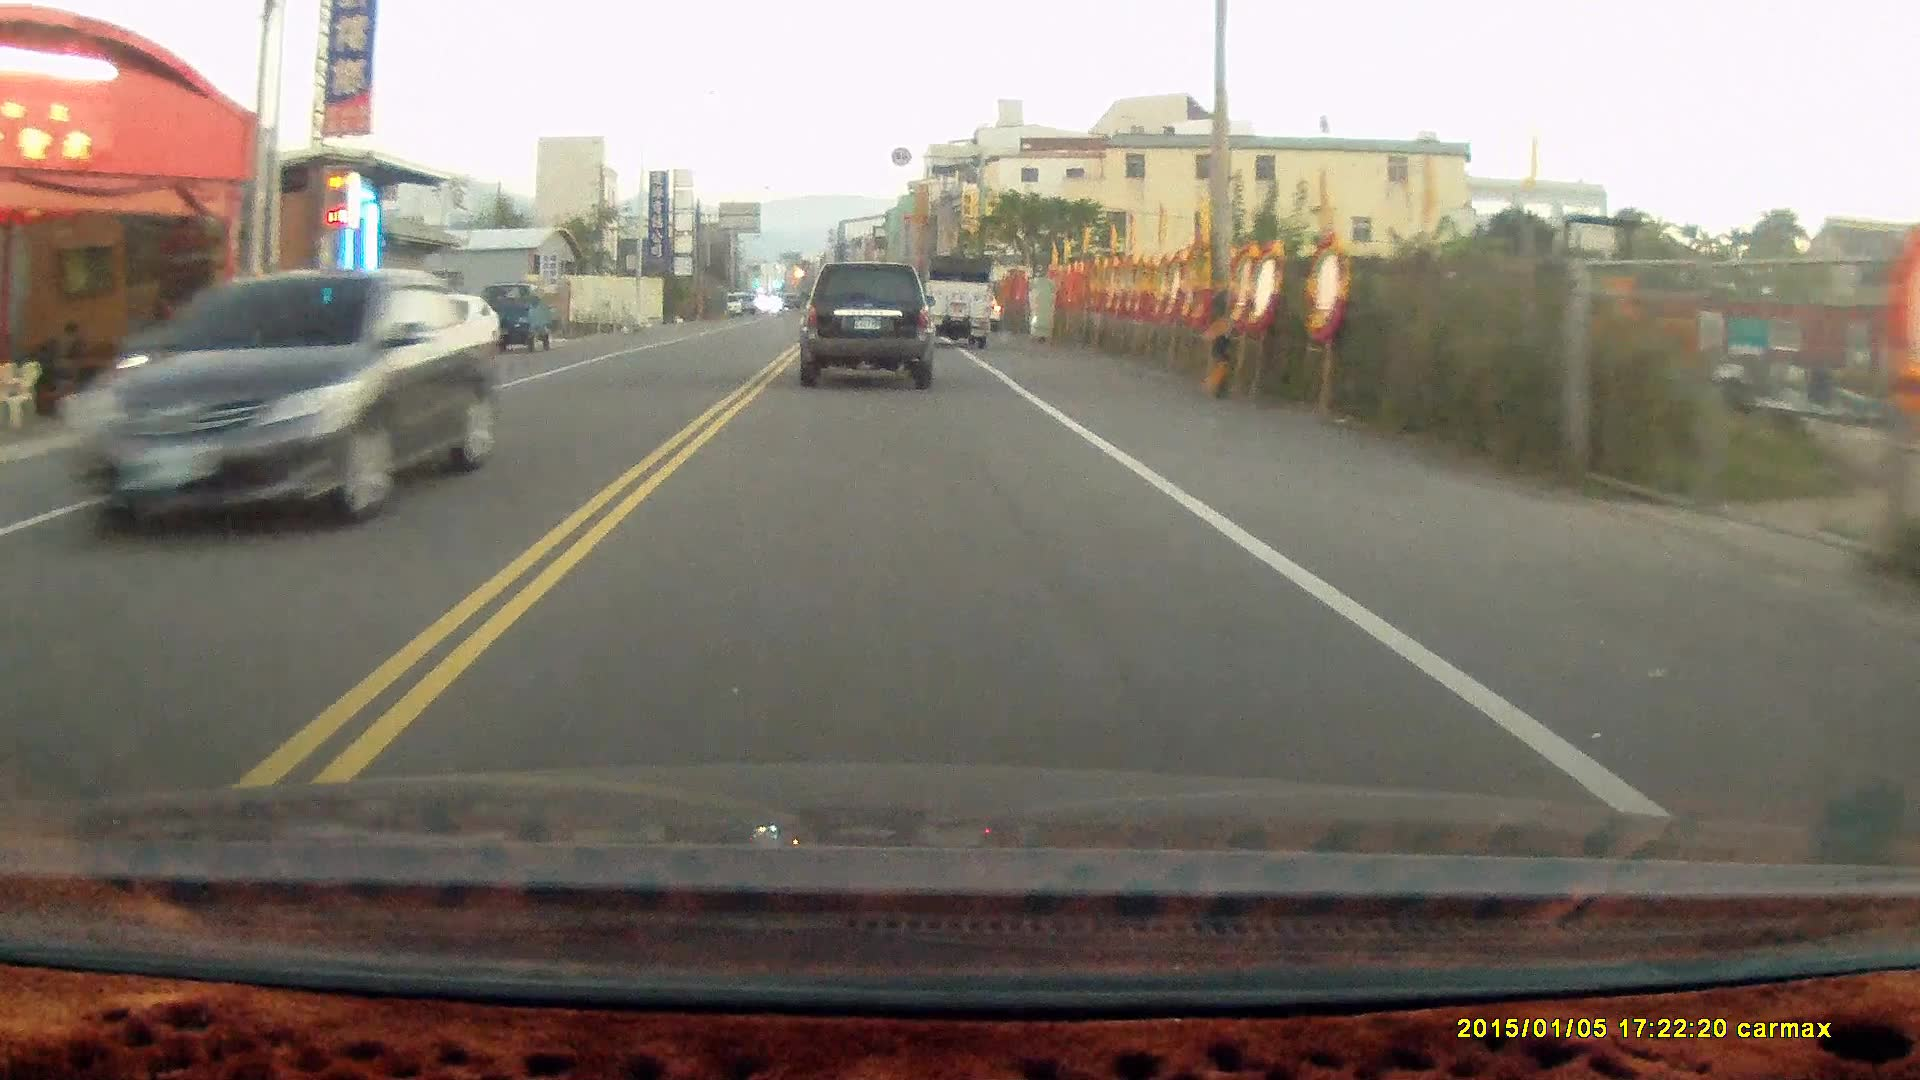vehicle: (47, 272, 479, 535), (800, 262, 938, 392), (924, 255, 998, 349)
